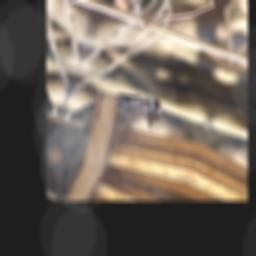Woodpecker: (52, 73, 167, 181)
